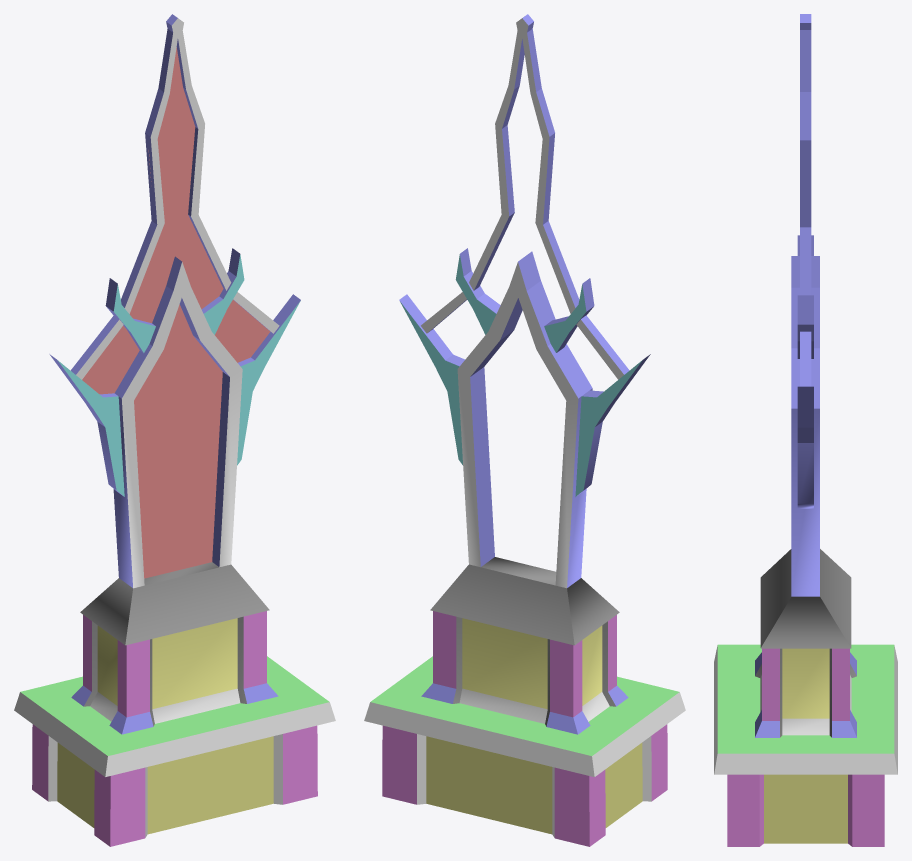
File: DElf_TombTower.gltf
The picture shows the model from 3 angles, left to right: view 1: azimuth 30°, elevation 25°; view 2: azimuth 150°, elevation 25°; view 3: azimuth 270°, elevation 25°; orthographic projection.
Visible parts, largest first — view 1: DElf_TombTower; view 2: DElf_TombTower; view 3: DElf_TombTower.
Boxes of the visible parts, bbox=[...] form: DElf_TombTower: bbox=[14, 14, 335, 846]; DElf_TombTower: bbox=[364, 14, 685, 846]; DElf_TombTower: bbox=[714, 14, 897, 846].
Size of the model in its own units: 4.71 by 14.34 by 3.05.
